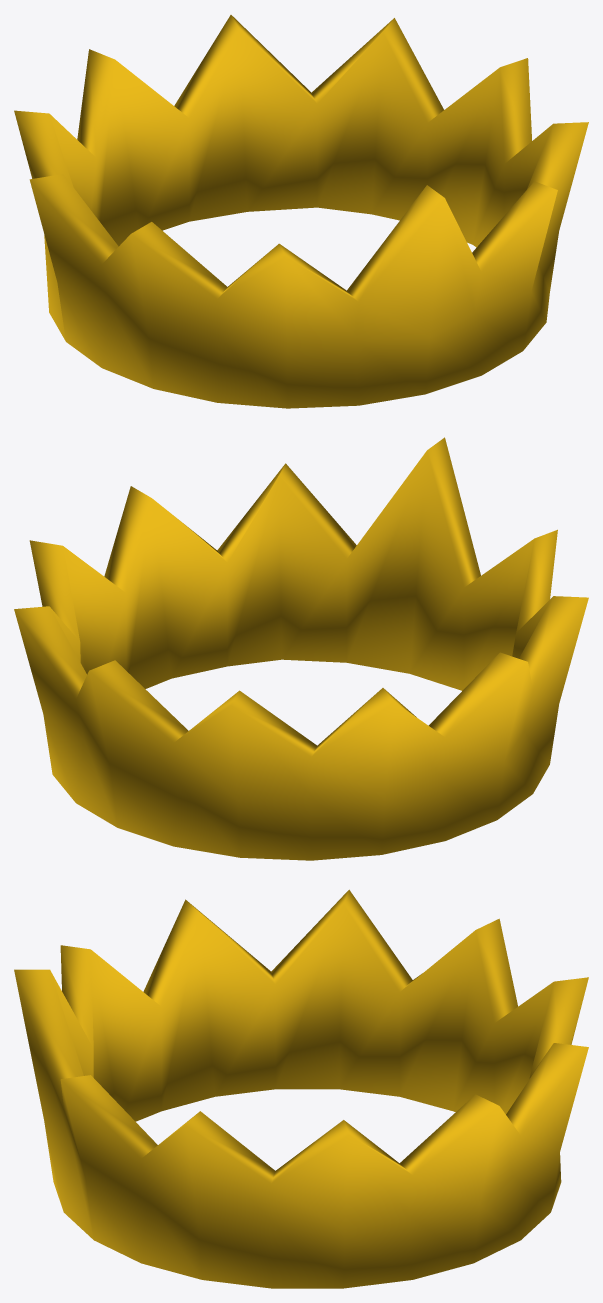
File: CUCrown.fbx
3 renders of one model, top to bottom at view 1: azimuth 30°, elevation 25°; view 2: azimuth 150°, elevation 25°; view 3: azimuth 270°, elevation 25°, orthographic.
Parts seen in each view (by area): view 1: Crown; view 2: Crown; view 3: Crown.
Part boxes in pixels (x1,y1,x2,y2): Crown: (14,15,588,408); Crown: (14,437,588,860); Crown: (14,889,588,1288).
Size of the model in its own units: 172 by 69.36 by 170.
